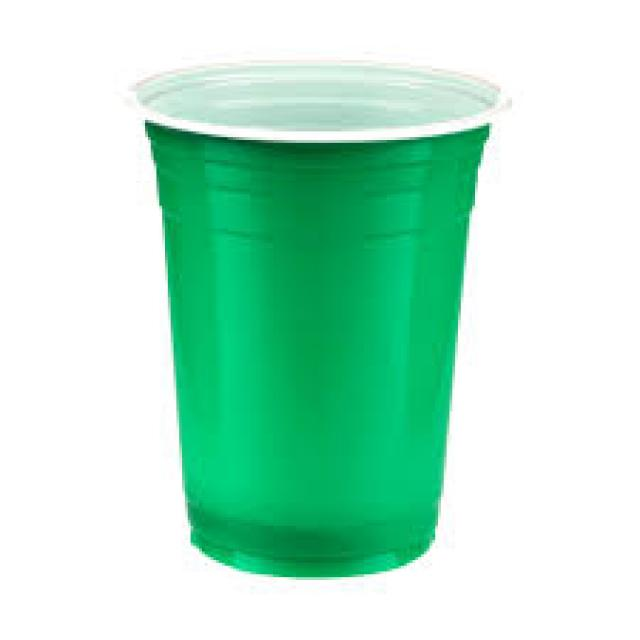Cup: (119, 50, 515, 572)
